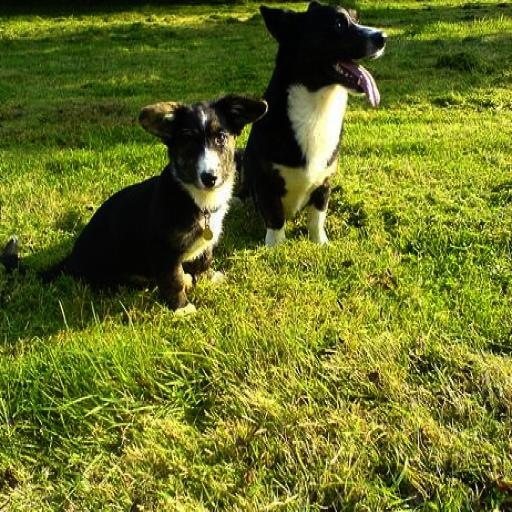dog_face: (262, 0, 392, 105), (143, 93, 264, 194)
